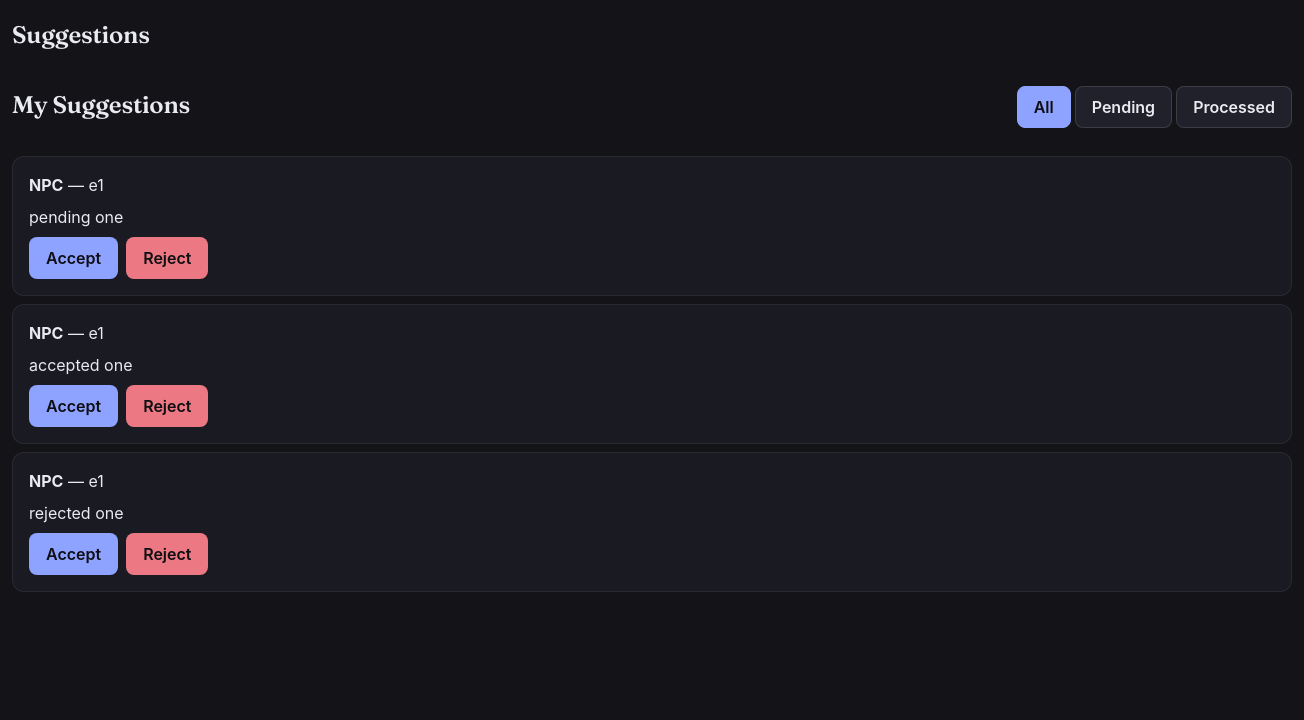
Test case: SuggestionsPage › toggles the list between all, pending, and processed
Expected: the text "pending one" is shown, [29,207,123,227]
Expected: the text "accepted one" is shown, [29,355,132,375]
# pending: only the pending row
Click the button "Pending" at (1123, 107), box [1075,86,1172,128]
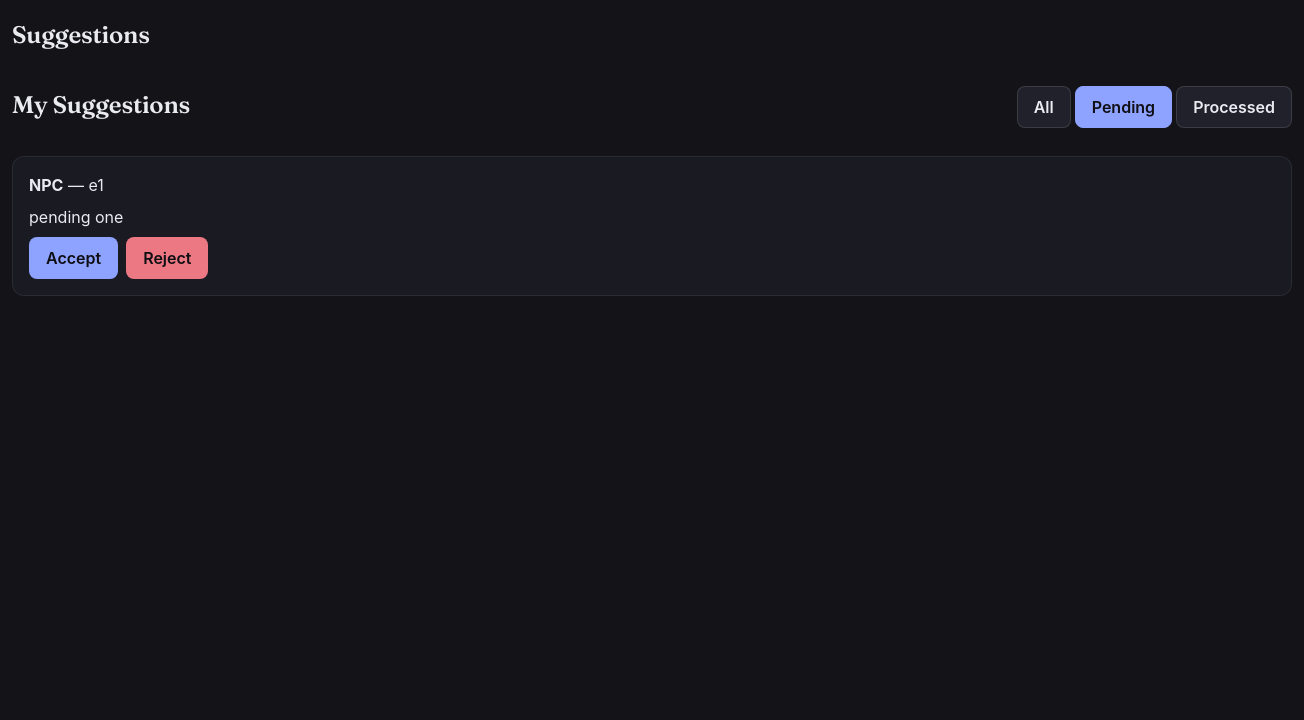
Expected: the text "pending one" is shown, [29,207,123,227]
Now the text "accepted one" is gone
Now the text "rejected one" is gone
# processed: the two terminal rows, not the pending one
Click the button "Processed" at (1234, 107), box [1176,86,1292,128]
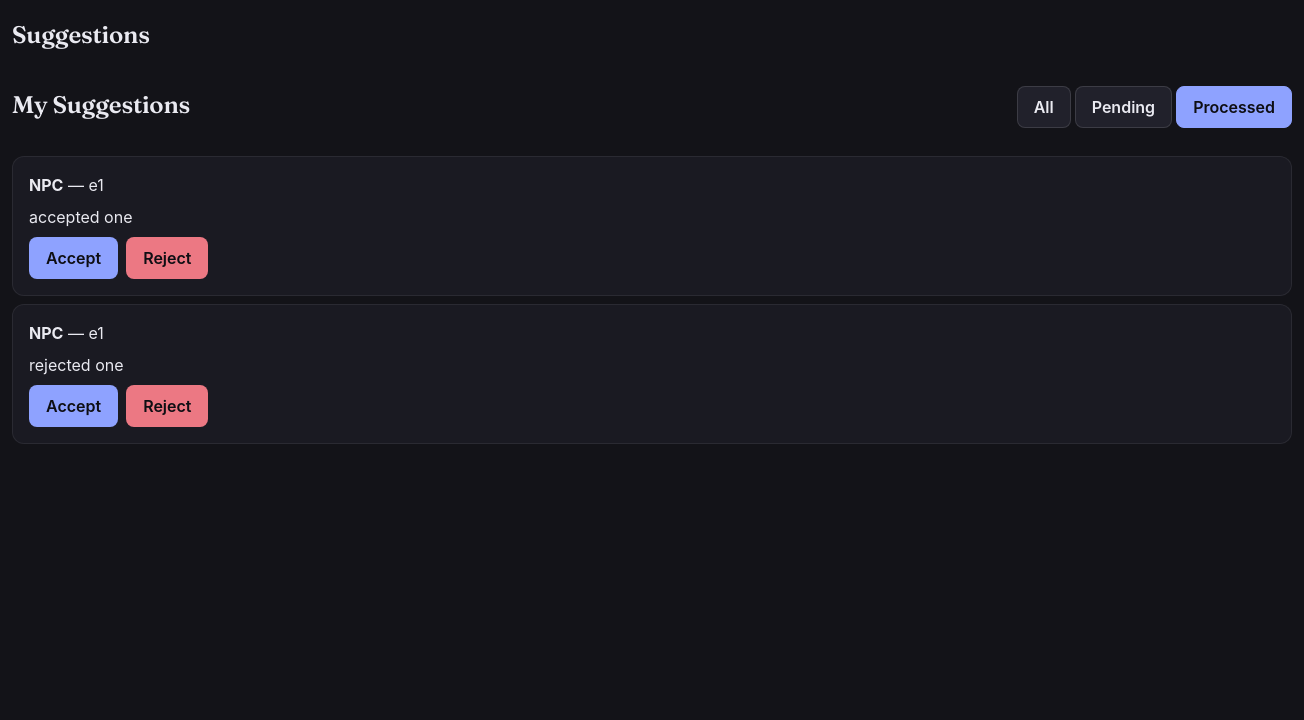
Now the text "pending one" is gone
Now the text "accepted one" is shown, box [29,207,132,227]
Now the text "rejected one" is shown, box [29,355,124,375]
